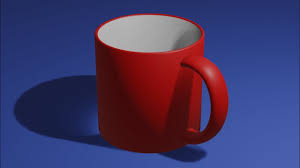cup: (90, 13, 230, 155)
